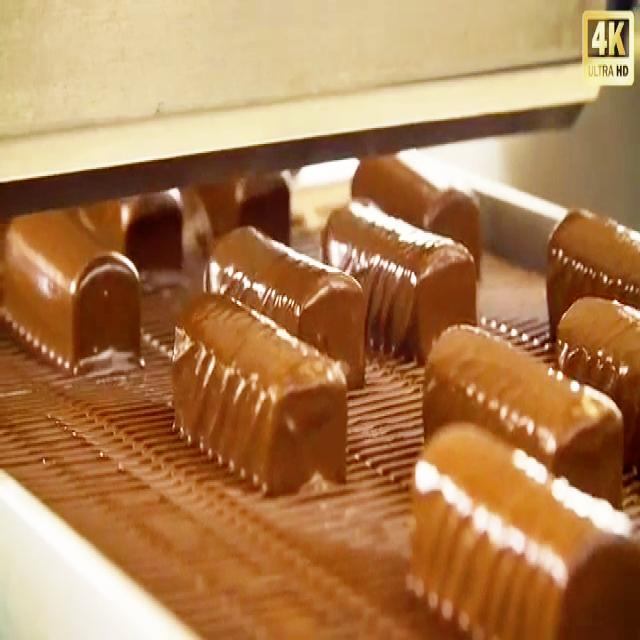Choco: (407, 418, 637, 634), (421, 318, 624, 507), (170, 286, 349, 496), (203, 220, 367, 390), (320, 192, 477, 359), (4, 201, 143, 373), (354, 149, 484, 297), (544, 203, 638, 336)
